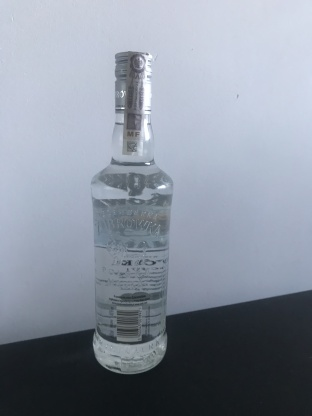nakretka: (112, 46, 154, 114)
